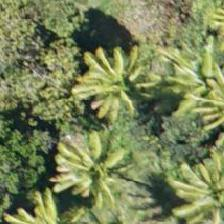coconut_tree: (69, 45, 159, 135), (24, 43, 114, 133), (49, 128, 139, 218), (173, 45, 223, 135)
